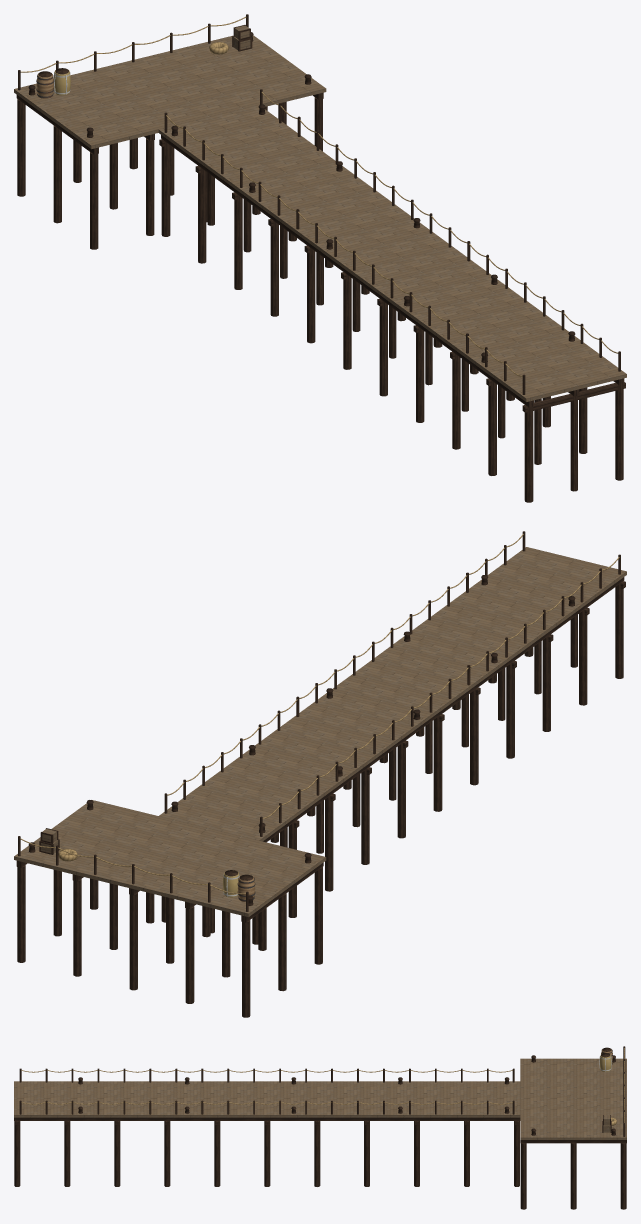
Rendered from HO_Harbour_Pier.fbx.
The picture shows the model from 3 angles, top to bottom: view 1: azimuth 30°, elevation 25°; view 2: azimuth 150°, elevation 25°; view 3: azimuth 270°, elevation 25°; orthographic projection. The views are drawn at different scales.
Visible parts, largest first — view 1: HO_Harbour_Pier__Wood_Planks, HO_Harbour_Pier__Timber_Dark, HO_Harbour_Pier__Rope; view 2: HO_Harbour_Pier__Wood_Planks, HO_Harbour_Pier__Timber_Dark, HO_Harbour_Pier__Rope; view 3: HO_Harbour_Pier__Wood_Planks, HO_Harbour_Pier__Timber_Dark, HO_Harbour_Pier__Rope.
Part boxes in pixels (bbox=[...]): HO_Harbour_Pier__Wood_Planks: bbox=[14, 25, 626, 401]; HO_Harbour_Pier__Timber_Dark: bbox=[16, 14, 625, 502]; HO_Harbour_Pier__Rope: bbox=[20, 16, 618, 376]; HO_Harbour_Pier__Wood_Planks: bbox=[14, 547, 626, 917]; HO_Harbour_Pier__Timber_Dark: bbox=[16, 531, 625, 1017]; HO_Harbour_Pier__Rope: bbox=[20, 533, 619, 894]; HO_Harbour_Pier__Wood_Planks: bbox=[14, 1058, 626, 1139]; HO_Harbour_Pier__Timber_Dark: bbox=[14, 1046, 626, 1209]; HO_Harbour_Pier__Rope: bbox=[21, 1048, 624, 1125].
Bounding box in the file's own units: 28 × 14.44 × 92.
